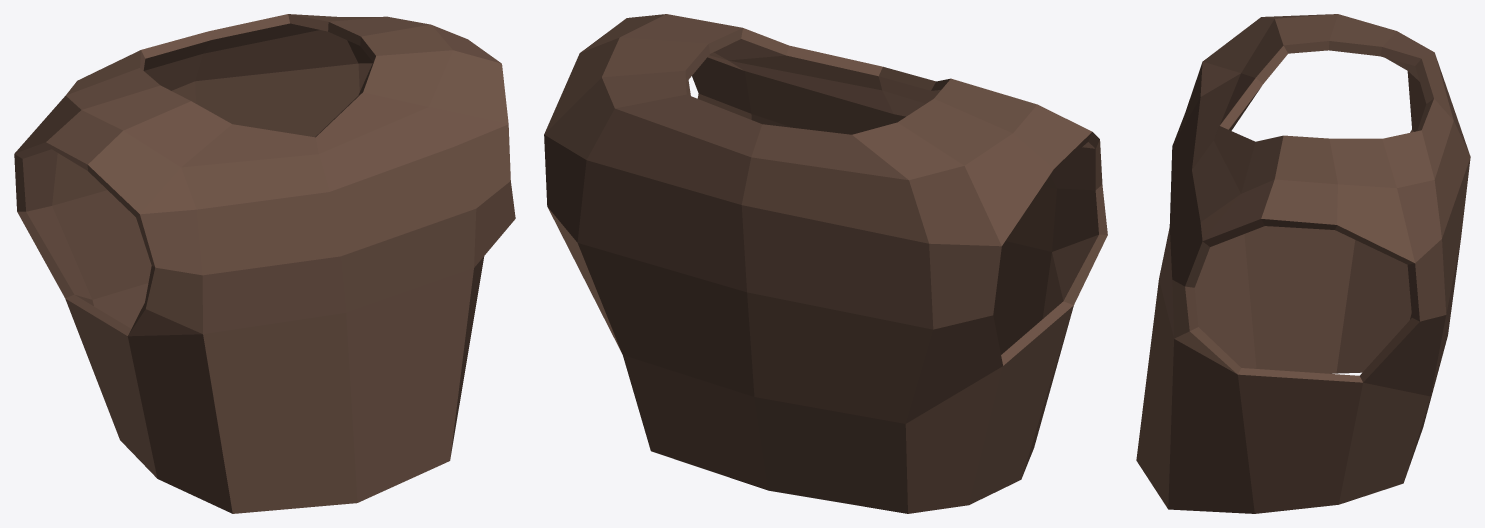
File: Armor Leather.glb
3 renders of one model, left to right at view 1: azimuth 30°, elevation 25°; view 2: azimuth 150°, elevation 25°; view 3: azimuth 270°, elevation 25°, orthographic. The views are drawn at different scales.
Visible parts, largest first — view 1: Armor_Leather; view 2: Armor_Leather; view 3: Armor_Leather.
Part boxes in pixels (x1,y1,x2,y2): Armor_Leather: [14, 14, 515, 513]; Armor_Leather: [544, 14, 1107, 513]; Armor_Leather: [1136, 14, 1470, 513].
Bounding box in the file's own units: 0.3902 × 0.3287 × 0.2682.
